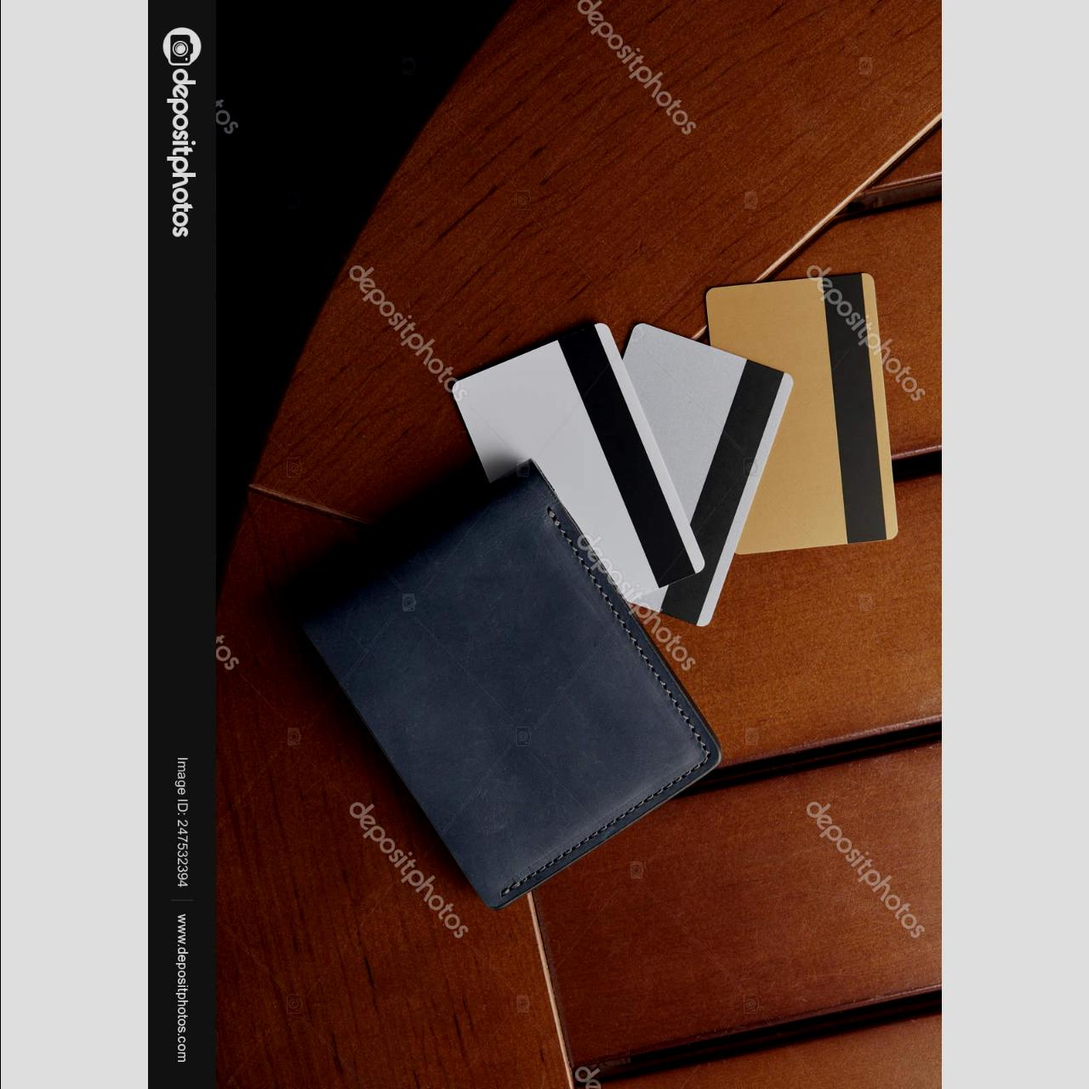wallet: (296, 449, 724, 1011)
